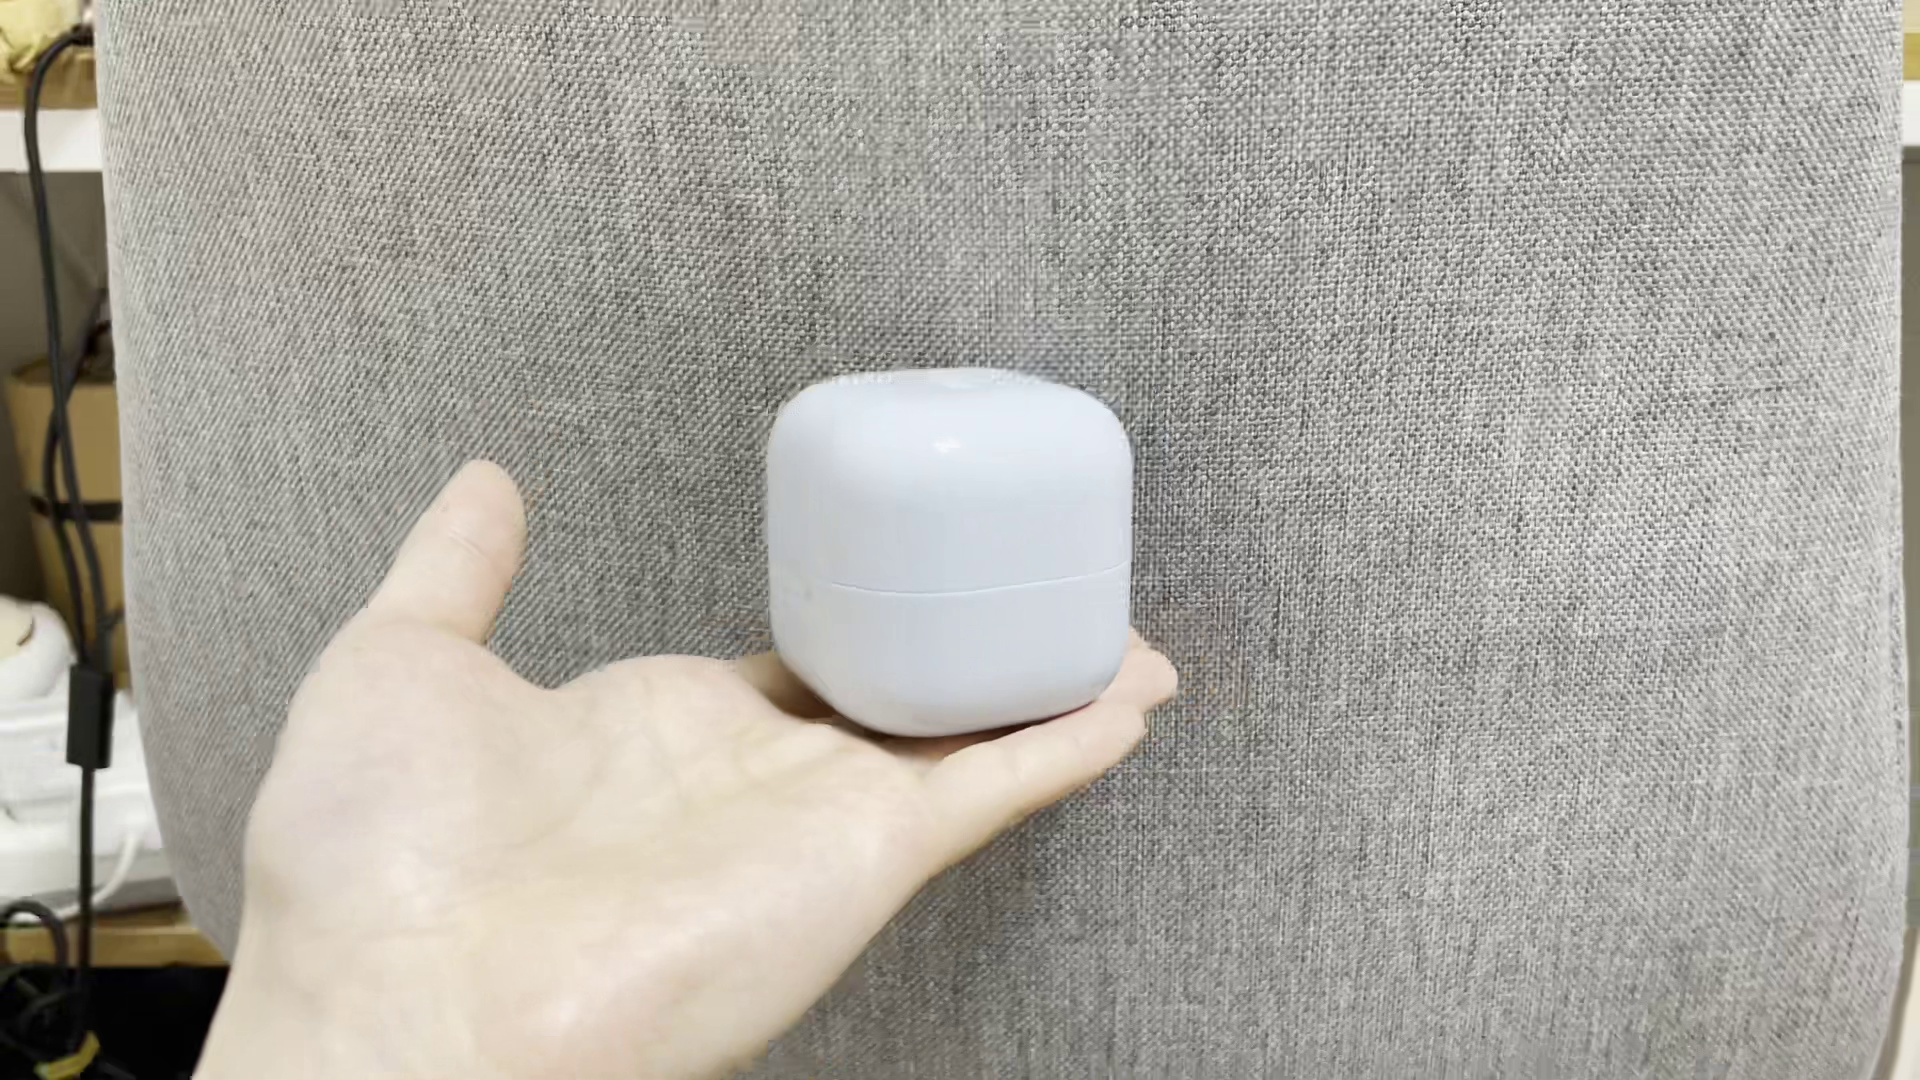cream: (764, 375, 1126, 728)
